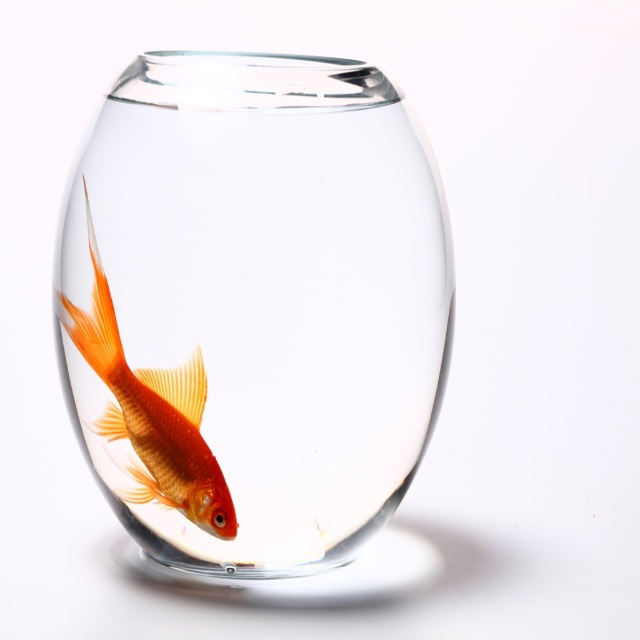Goldfish: (48, 158, 234, 542)
